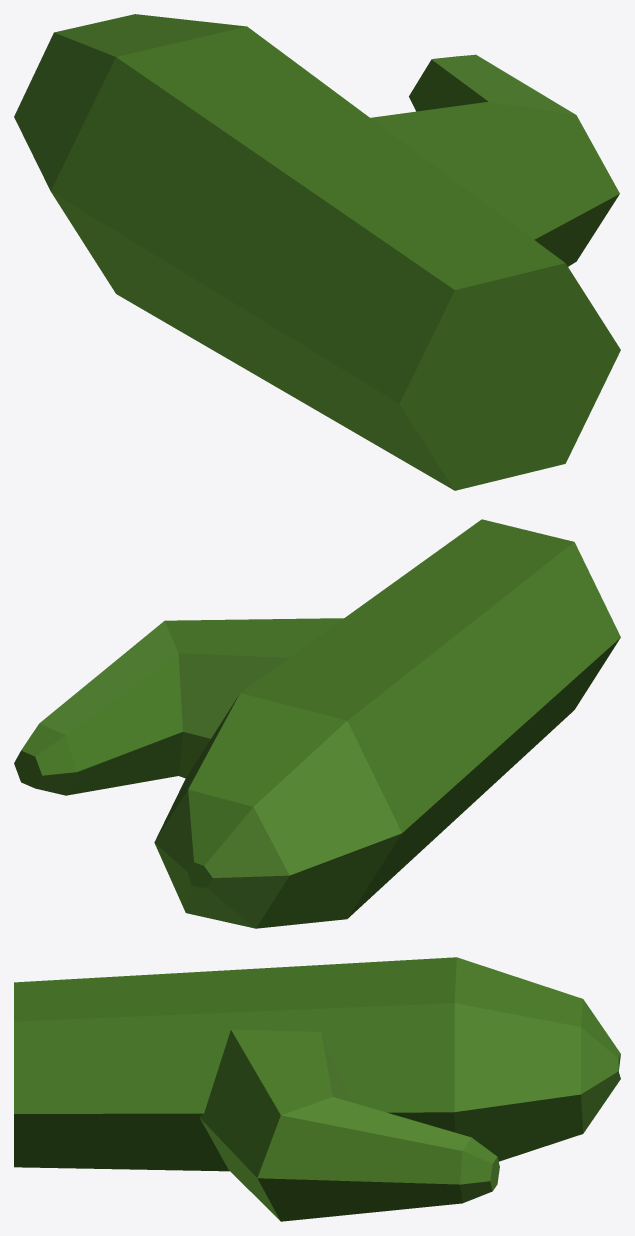
Rendered from cactus_2.fbx.
3 renders of one model, top to bottom at view 1: azimuth 30°, elevation 25°; view 2: azimuth 150°, elevation 25°; view 3: azimuth 270°, elevation 25°, orthographic. The views are drawn at different scales.
Visible parts, largest first — view 1: cactus_2; view 2: cactus_2; view 3: cactus_2.
Boxes of the visible parts, x1,y1,x2,y2 form: cactus_2: [14, 14, 620, 490]; cactus_2: [14, 519, 620, 928]; cactus_2: [14, 957, 620, 1221].
Size of the model in its own units: 29.36 by 14.79 by 47.28.
